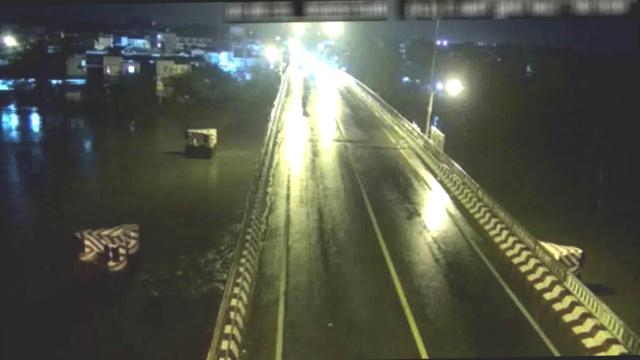Bike: (300, 90, 313, 110)
